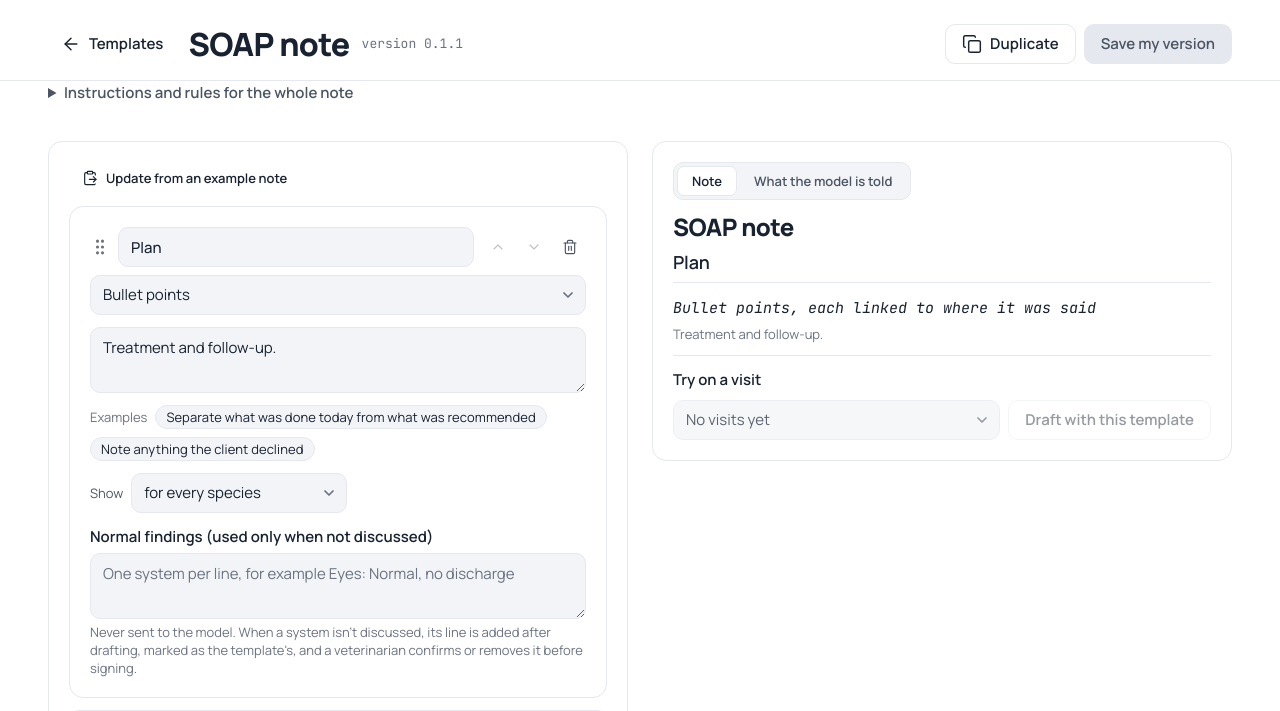
Templates: the editor › saves an unchanged built-in as your version once something changes
(page scrolled)
Expected: the button "Save my version" is disabled, x1=1084 y1=24 x2=1232 y2=64
Replace the text in the text box named "Instruction for Plan" with "Rechecks in days." at coordinates (338, 360), box x1=90 y1=327 x2=586 y2=393
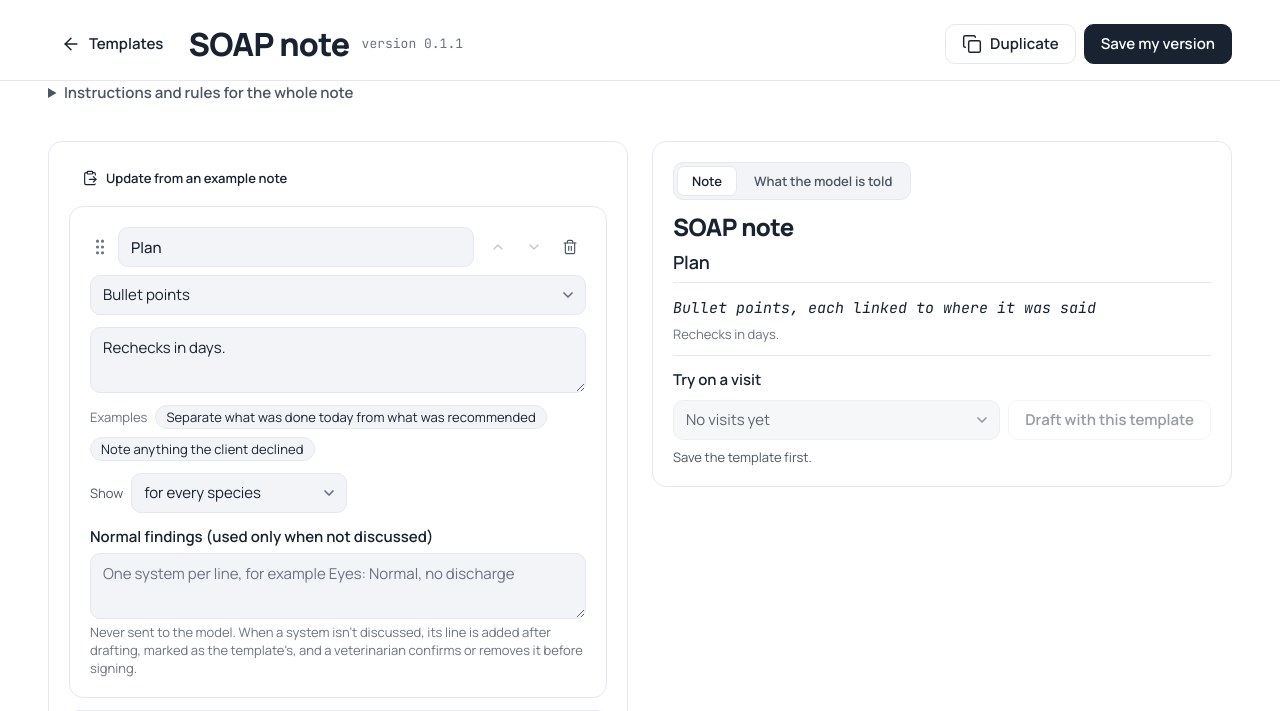
Result: the button "Save my version" is enabled
Click the button "Save my version" at coordinates (1158, 44), box x1=1084 y1=24 x2=1232 y2=64
(page scrolled)
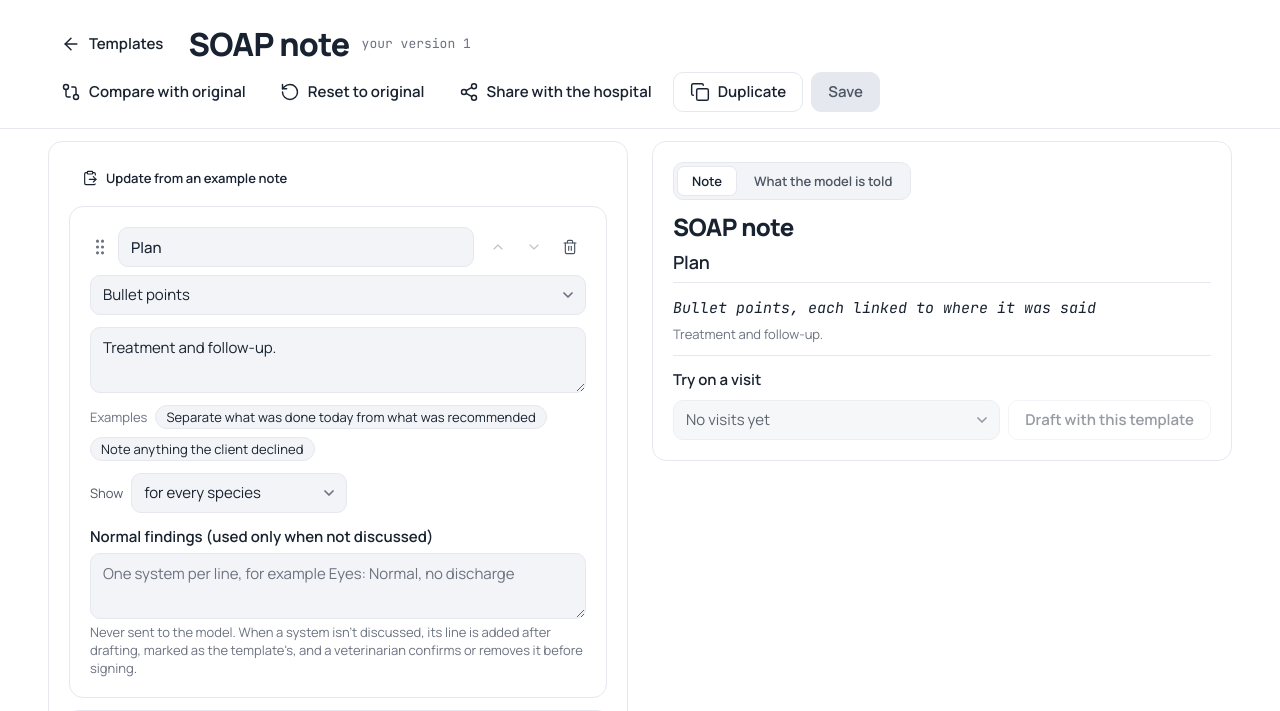
Result: the button "Reset to original" is shown at x1=267 y1=72 x2=438 y2=112
Result: the button "Share with the hospital" is shown at x1=446 y1=72 x2=665 y2=112
